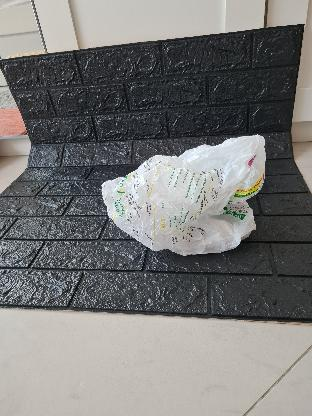Plastic Bag: (100, 133, 268, 257)
